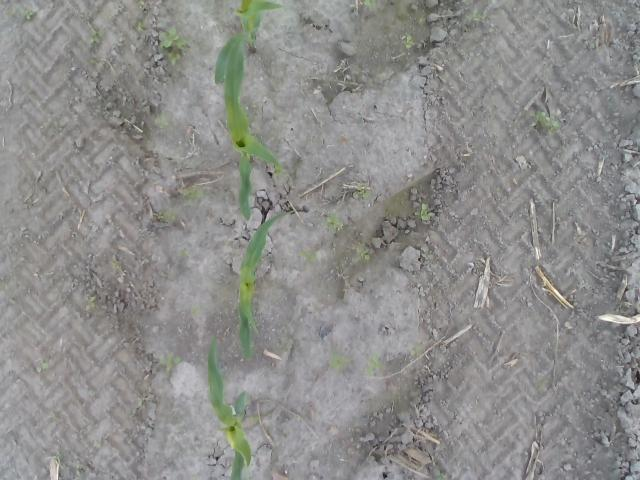Maize: (224, 38, 288, 220), (237, 214, 290, 362), (208, 336, 252, 479), (214, 0, 285, 84)
Weeds: (159, 25, 185, 64), (532, 110, 562, 135), (366, 354, 386, 377), (162, 353, 182, 373), (329, 352, 349, 370), (182, 188, 202, 206), (325, 212, 341, 234), (6, 9, 32, 22), (416, 206, 436, 222), (154, 209, 174, 224), (469, 8, 489, 22), (300, 248, 316, 264), (354, 186, 370, 200), (88, 30, 104, 44), (355, 246, 370, 260), (84, 295, 96, 312), (536, 378, 550, 391), (51, 456, 65, 469), (154, 115, 166, 130), (411, 344, 424, 356), (55, 120, 68, 132), (34, 364, 49, 374), (113, 256, 122, 272), (190, 305, 200, 319), (137, 396, 147, 410), (406, 36, 415, 50), (273, 166, 285, 176), (366, 0, 378, 10), (76, 463, 84, 478), (136, 22, 144, 35), (250, 416, 260, 426), (140, 1, 148, 12), (180, 250, 190, 258), (0, 280, 6, 290)
